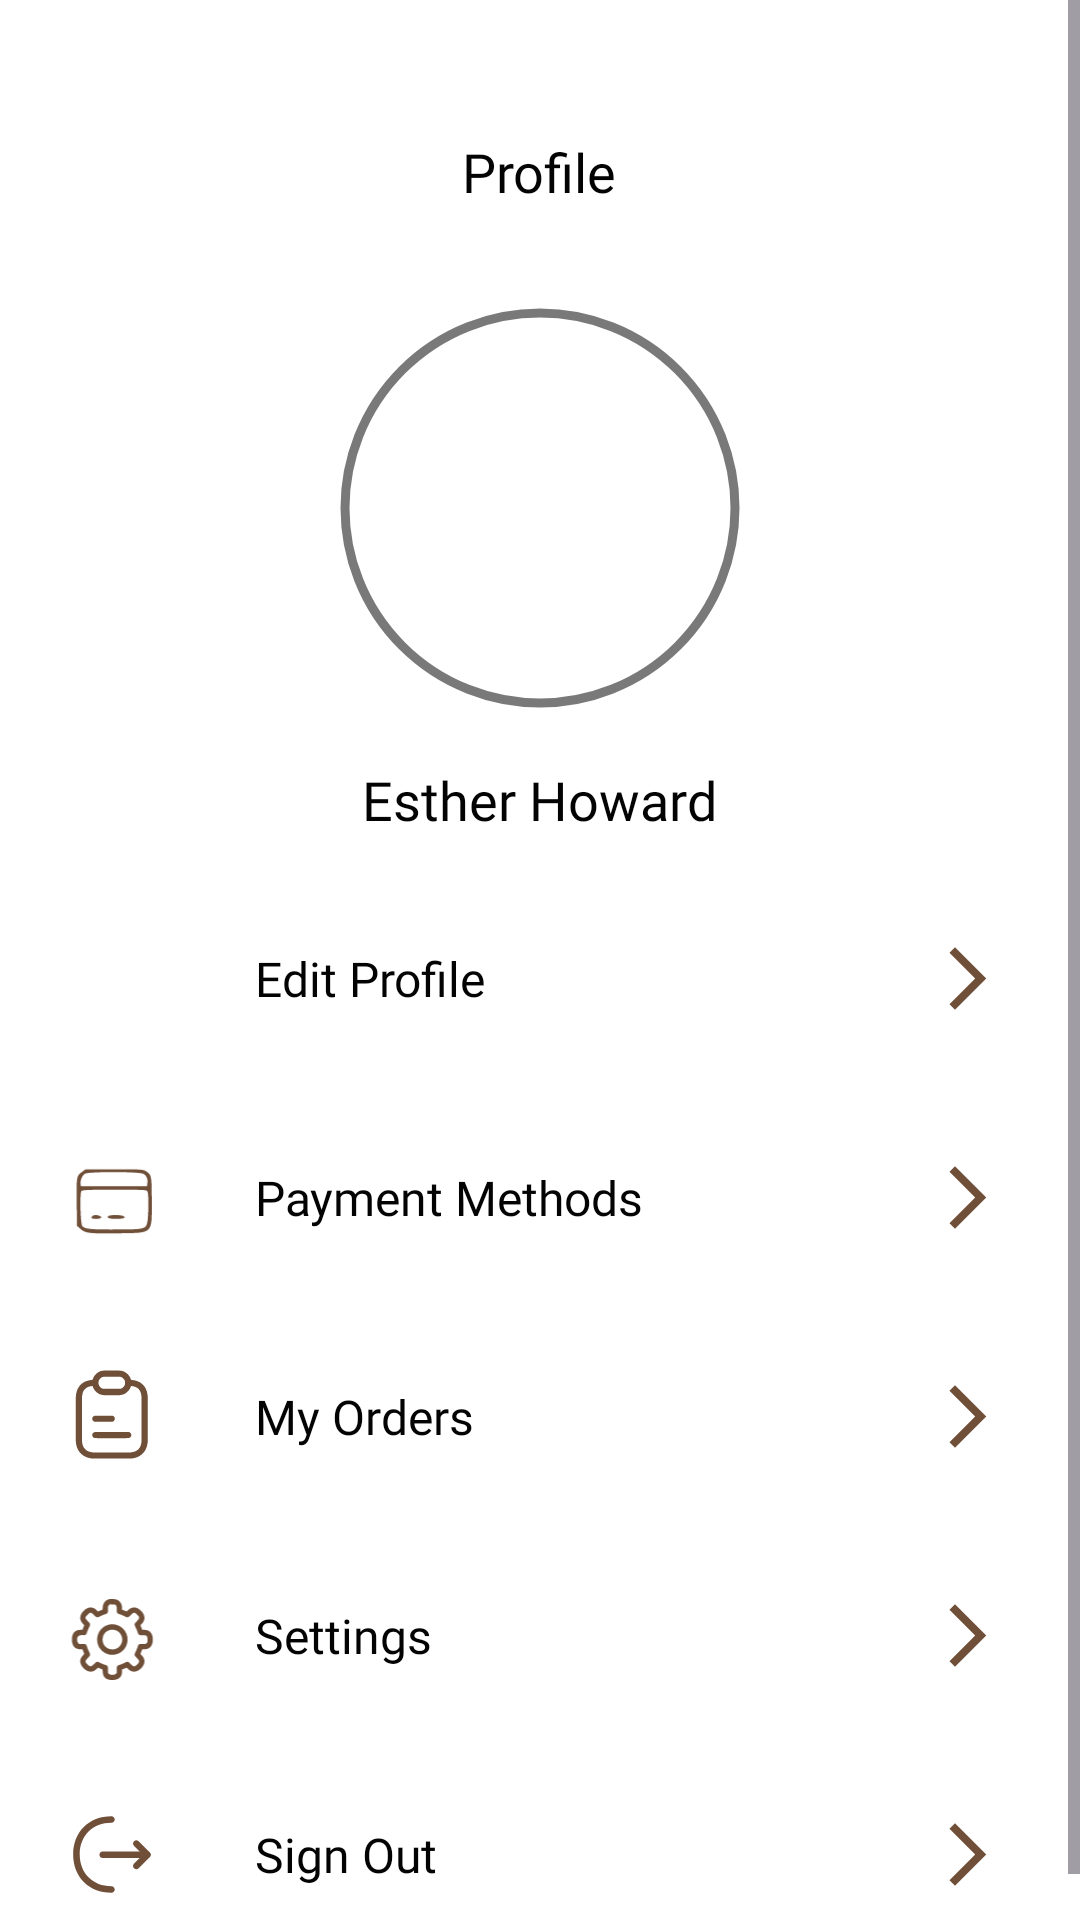

Where to tap for icons on this 1080×1920 app screen, as point (x, y):
arrow forward: point (967, 978), point (967, 1197), point (967, 1416), point (967, 1635), point (967, 1854)
